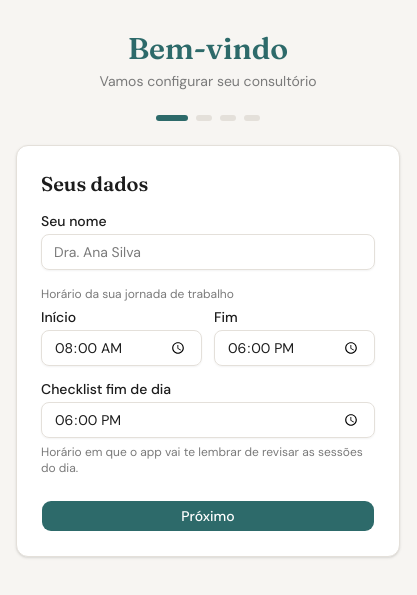
OnboardingPage › advances to step 2 after filling step 1
The image size is (417, 595).
Type "Dra. Ana" into the field labelled "Seu nome" at (208,252), box x1=41 y1=234 x2=375 y2=270
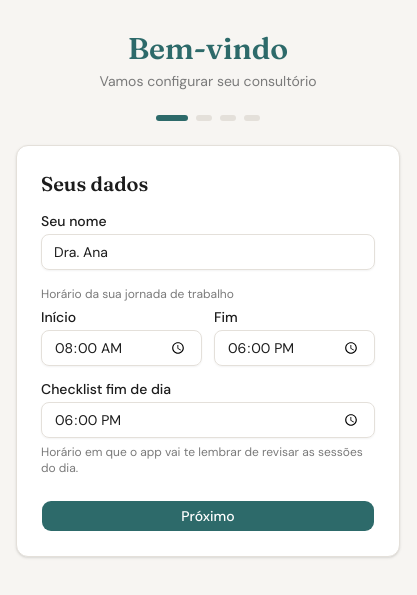
Click the button "Próximo" at (208,516), box x1=41 y1=500 x2=375 y2=532
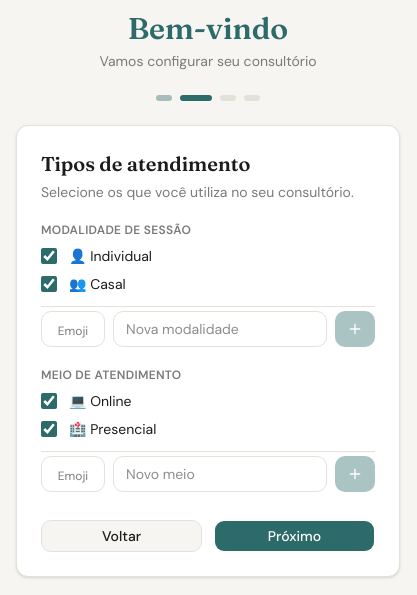
Now the heading "Tipos de atendimento" is shown, box x1=41 y1=151 x2=250 y2=176
